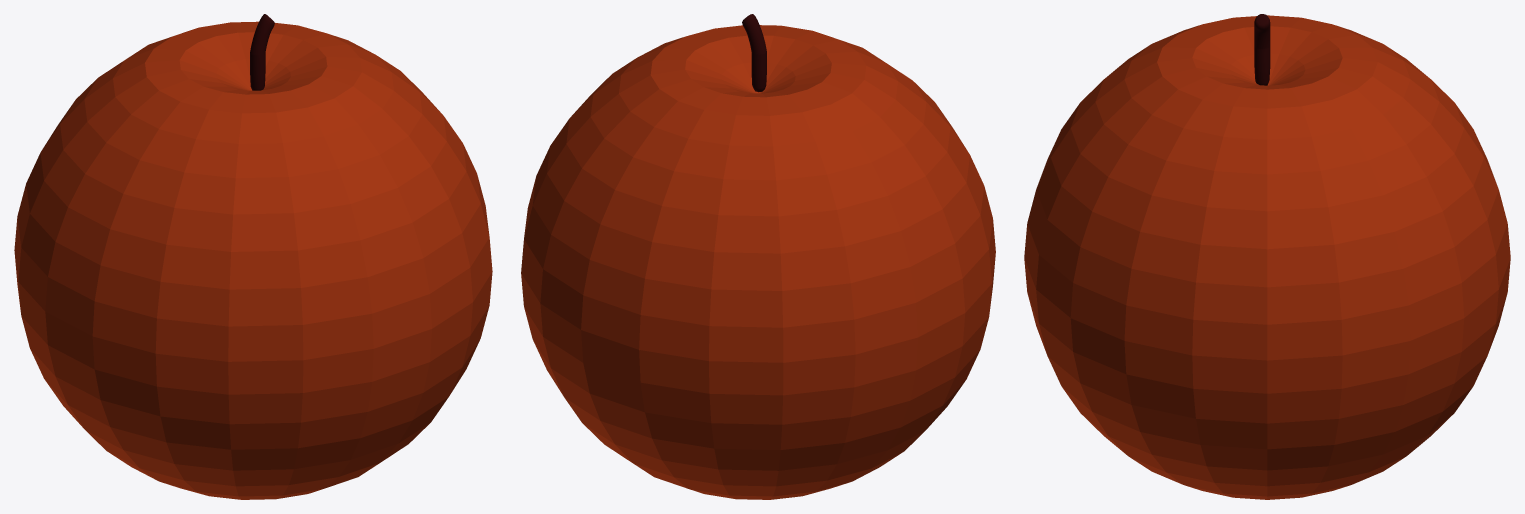
The model's file is elma.fbx.
3 views of the same model, side by side, from view 1: azimuth 30°, elevation 25°; view 2: azimuth 150°, elevation 25°; view 3: azimuth 270°, elevation 25° (orthographic).
Parts seen in each view (by area): view 1: pSphere1, pCylinder1; view 2: pSphere1, pCylinder1; view 3: pSphere1, pCylinder1.
Boxes of the visible parts, x1,y1,x2,y2 form: pSphere1: (14, 21, 492, 499); pCylinder1: (250, 14, 274, 90); pSphere1: (521, 25, 995, 499); pCylinder1: (742, 14, 766, 92); pSphere1: (1024, 15, 1510, 499); pCylinder1: (1254, 14, 1270, 85).
Size of the model in its own units: 8.81 by 9.05 by 8.81.
